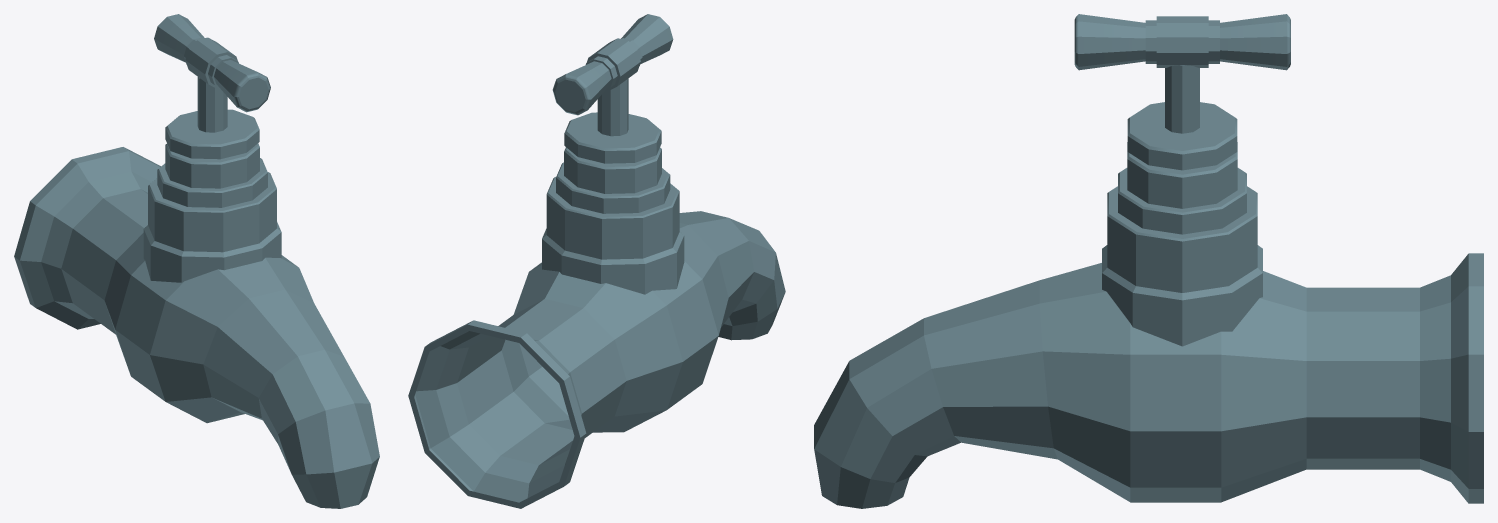
File: tap.fbx
3 views of the same model, side by side, from view 1: azimuth 30°, elevation 25°; view 2: azimuth 150°, elevation 25°; view 3: azimuth 270°, elevation 25° (orthographic). The views are drawn at different scales.
Visible parts, largest first — view 1: tap; view 2: tap; view 3: tap.
Boxes of the visible parts, left/top/right/bottom form: tap: left=14, top=14, right=379, bottom=508; tap: left=408, top=14, right=785, bottom=508; tap: left=814, top=14, right=1483, bottom=508.
Bounding box in the file's own units: 0.2318 × 0.4801 × 0.6156.
